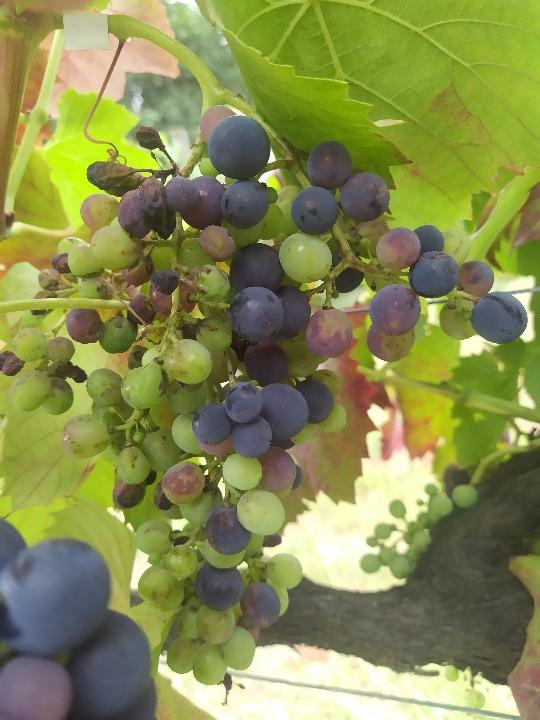grape: (0, 100, 530, 687)
